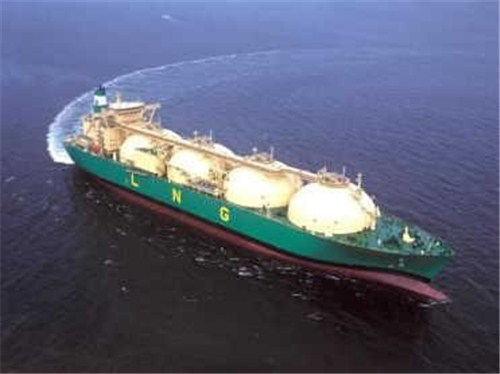Cargoship: (63, 82, 454, 304)
